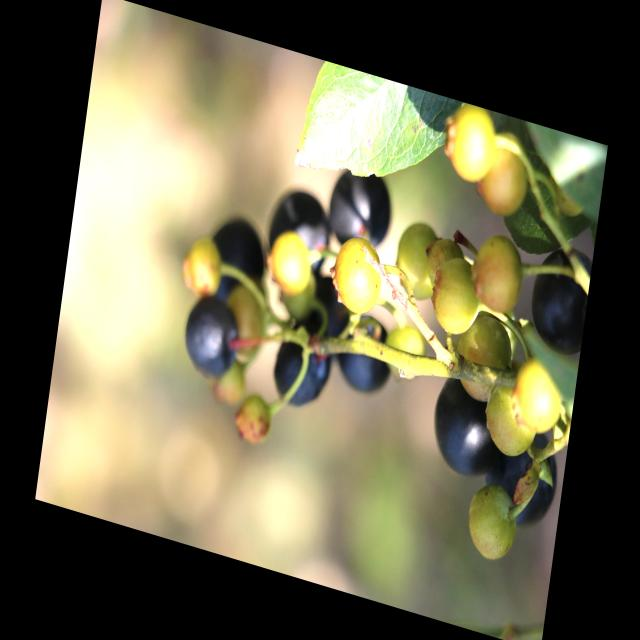blueberry: (480, 415, 562, 536), (425, 371, 506, 489), (522, 233, 594, 364), (200, 204, 272, 324), (322, 155, 398, 265), (259, 178, 333, 286), (331, 309, 399, 403), (268, 326, 333, 416), (179, 296, 244, 386)
blueberry-halfripe: (231, 390, 274, 452)
blueberry-unripe: (452, 305, 517, 413), (438, 101, 502, 192), (507, 351, 568, 442), (428, 255, 488, 347), (480, 374, 538, 467), (469, 228, 526, 321), (474, 137, 530, 224), (330, 237, 386, 322), (464, 481, 520, 565), (393, 217, 447, 304), (265, 231, 315, 303), (180, 235, 223, 300)
